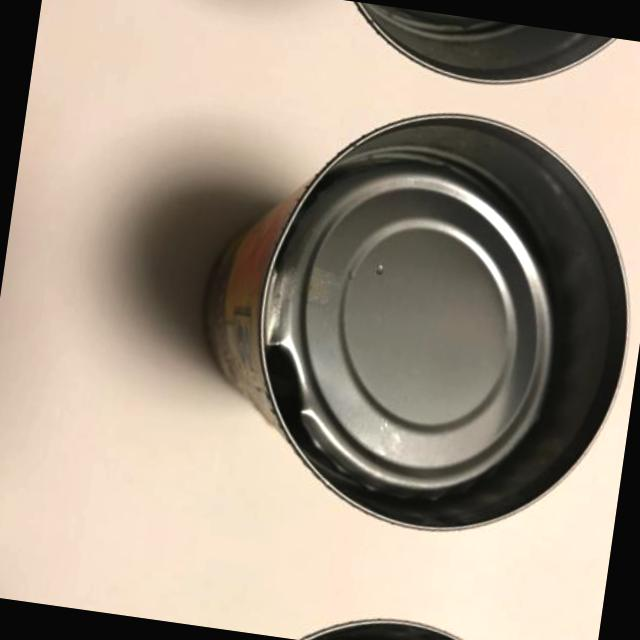Metal: (157, 76, 640, 569), (221, 0, 640, 114), (142, 571, 599, 640)
